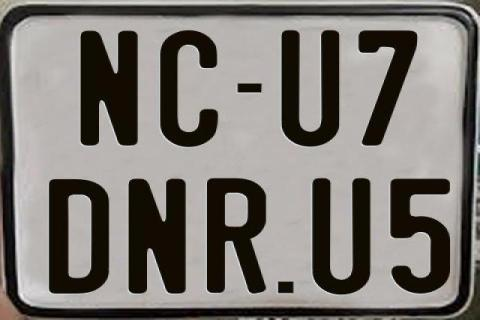0: (390, 176, 454, 292), (357, 30, 418, 146)
C: (158, 31, 218, 147)
D: (46, 178, 110, 296)
N: (80, 31, 144, 146), (128, 176, 186, 295)
R: (206, 177, 271, 292)
U: (281, 29, 340, 147), (310, 178, 368, 294)
